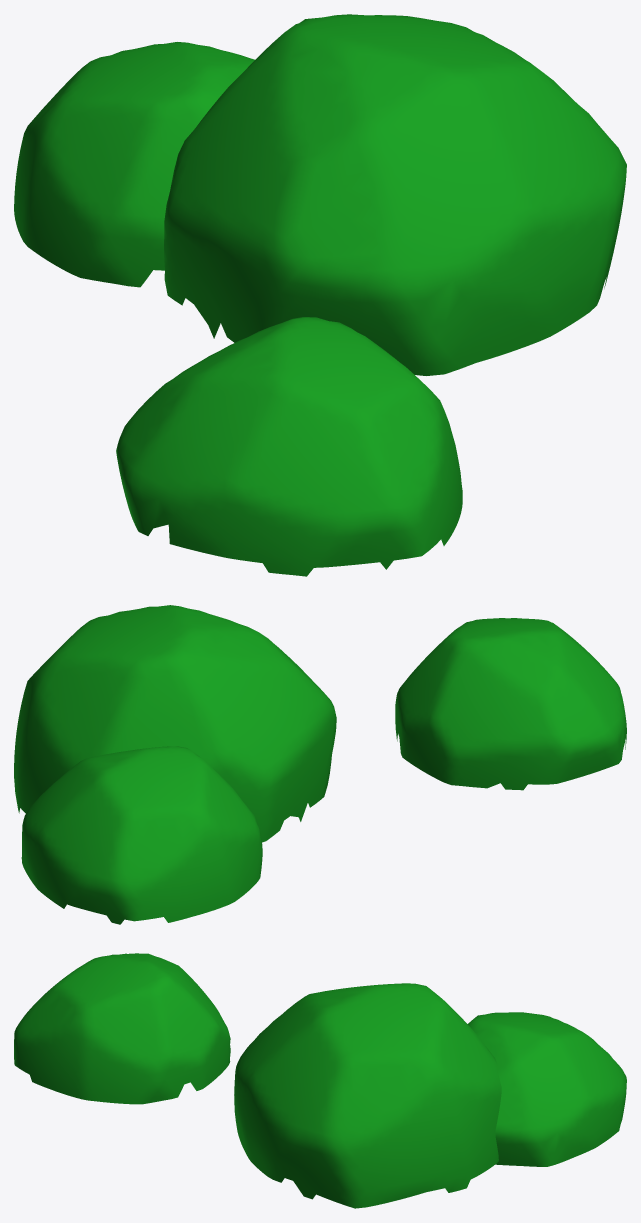
The model's file is buissons.FBX.
3 views of the same model, one above another, from view 1: azimuth 30°, elevation 25°; view 2: azimuth 150°, elevation 25°; view 3: azimuth 270°, elevation 25° (orthographic). The views are drawn at different scales.
Parts seen in each view (by area): view 1: GeoSphere004; view 2: GeoSphere004; view 3: GeoSphere004.
Part boxes in pixels (x1,y1,x2,y2): GeoSphere004: [14, 14, 626, 576]; GeoSphere004: [14, 605, 626, 924]; GeoSphere004: [14, 953, 626, 1208].
Bounding box in the file's own units: 137 × 49.32 × 180.
